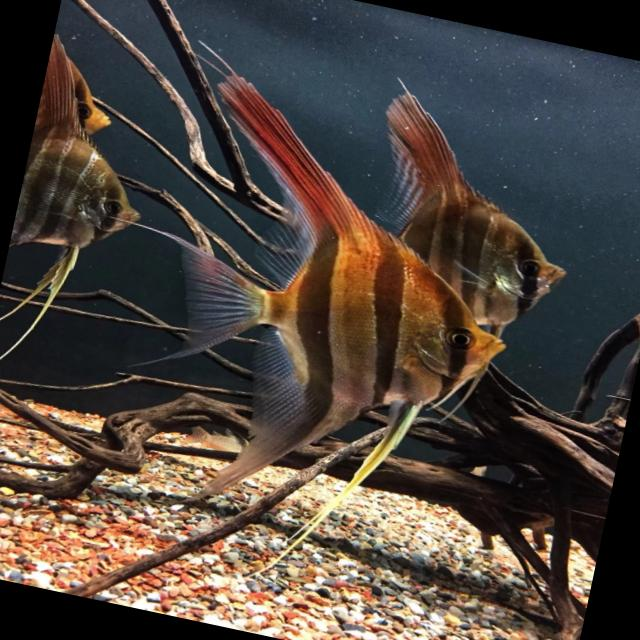AngelFish: (132, 66, 548, 568), (352, 85, 596, 324), (0, 37, 169, 378)
